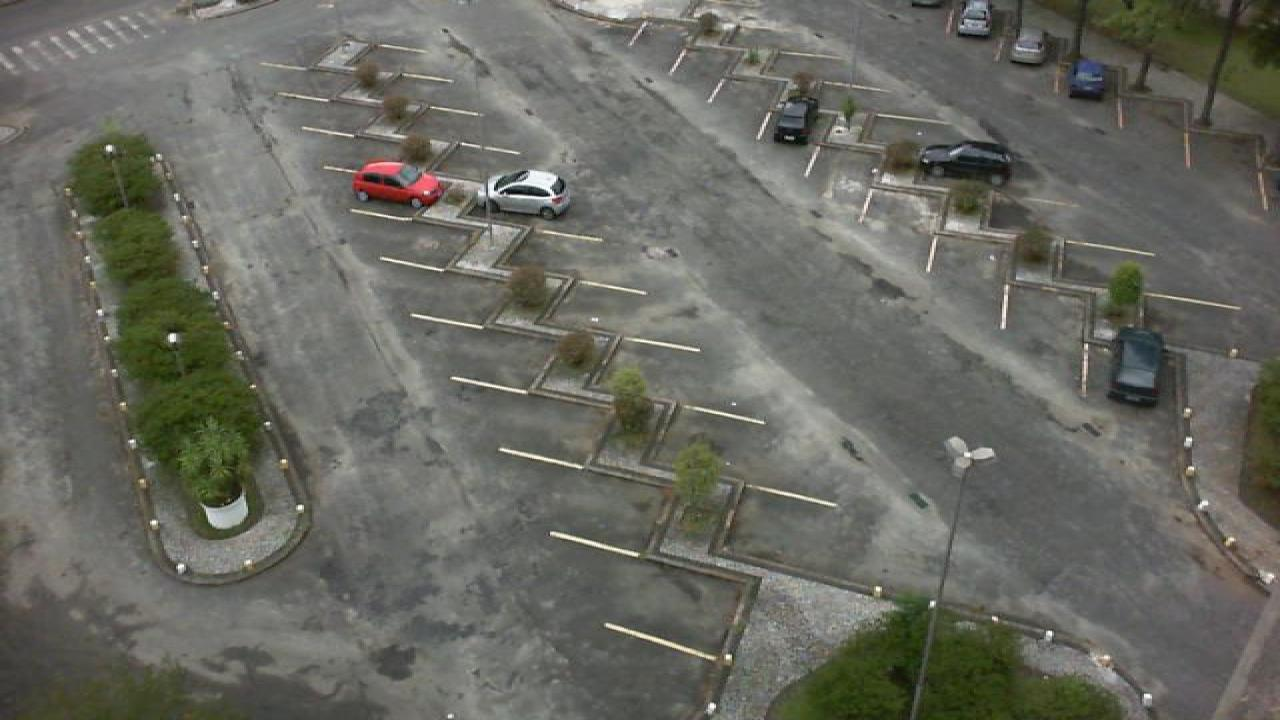Car: (1106, 324, 1168, 407), (350, 160, 444, 208), (482, 169, 574, 218), (916, 140, 1016, 181), (770, 97, 818, 144), (1066, 55, 1110, 100), (1006, 26, 1050, 65), (954, 0, 996, 37)
